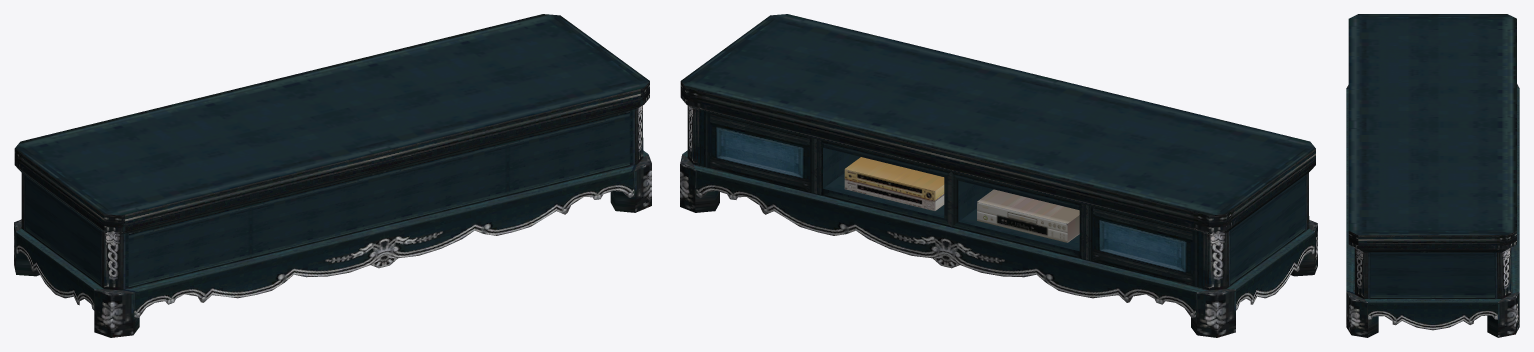
Rendered from furni_0201220_01.FBX.
The picture shows the model from 3 angles, left to right: view 1: azimuth 30°, elevation 25°; view 2: azimuth 150°, elevation 25°; view 3: azimuth 270°, elevation 25°; orthographic projection. The views are drawn at different scales.
Visible parts, largest first — view 1: furni_0201220_01; view 2: furni_0201220_01; view 3: furni_0201220_01.
Part boxes in pixels (bbox=[...]): furni_0201220_01: bbox=[14, 14, 651, 337]; furni_0201220_01: bbox=[680, 14, 1317, 337]; furni_0201220_01: bbox=[1346, 14, 1519, 337].
Bounding box in the file's own units: 239 × 50.05 × 77.86.
